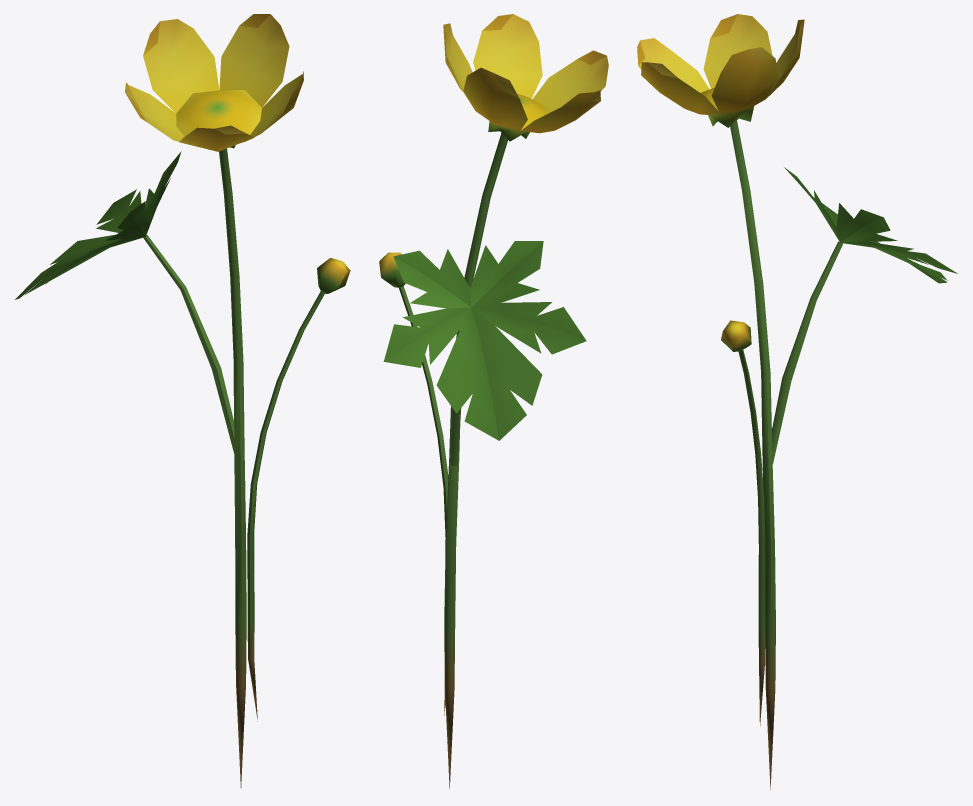
3 renders of one model, left to right at view 1: azimuth 30°, elevation 25°; view 2: azimuth 150°, elevation 25°; view 3: azimuth 270°, elevation 25°, orthographic. The views are drawn at different scales.
Parts seen in each view (by area): view 1: base.518; view 2: base.518; view 3: base.518.
Boxes of the visible parts, left/top/right/bottom form: base.518: left=15, top=14, right=350, bottom=788; base.518: left=379, top=14, right=608, bottom=788; base.518: left=637, top=14, right=957, bottom=790.
Size of the model in its own units: 0.173 by 0.5 by 0.1941.
